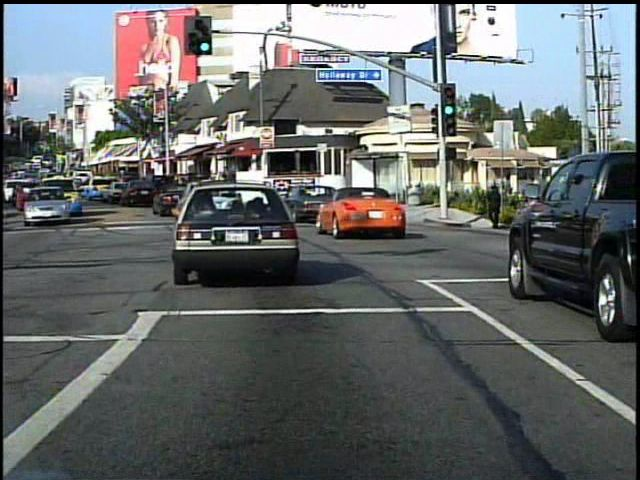person: (568, 186, 591, 247), (484, 182, 506, 229)
